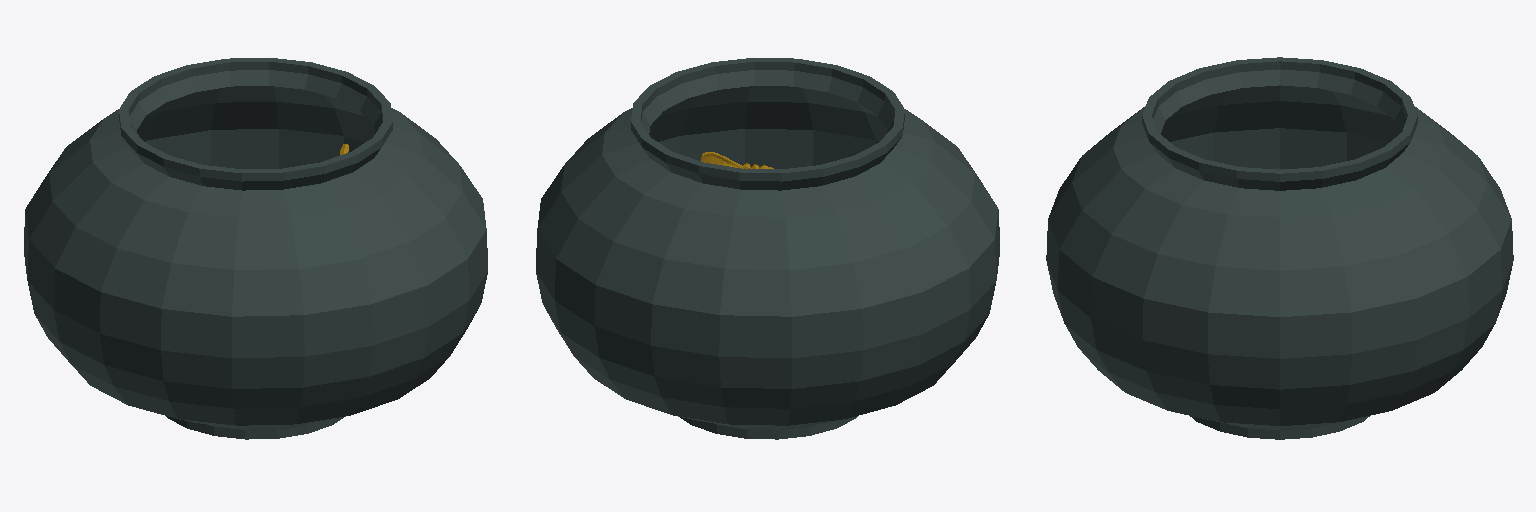
File: fishBowlCastleUV.obj
3 views of the same model, side by side, from view 1: azimuth 30°, elevation 25°; view 2: azimuth 150°, elevation 25°; view 3: azimuth 270°, elevation 25° (orthographic).
Visible parts, largest first — view 1: Fishbowl; view 2: Fishbowl; view 3: Fishbowl.
Part boxes in pixels (x1,y1,x2,y2): Fishbowl: (24,58,487,439); Fishbowl: (536,58,999,439); Fishbowl: (1046,57,1513,439).
Size of the model in its own units: 40.32 by 26.74 by 40.32.